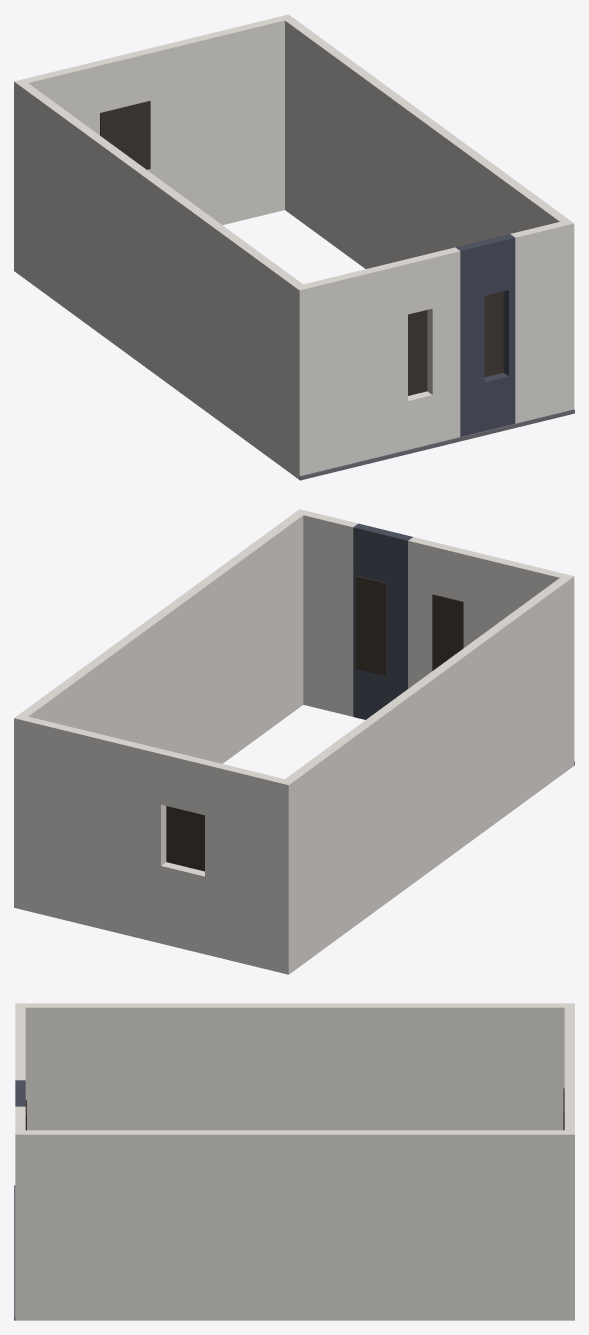
File: SM_Floor_NarrowUpperScatterLow_White_455_Back_01.gltf
3 views of the same model, one above another, from view 1: azimuth 30°, elevation 25°; view 2: azimuth 150°, elevation 25°; view 3: azimuth 270°, elevation 25° (orthographic). The views are drawn at different scales.
Visible parts, largest first — view 1: SM_Floor_NarrowUpperScatterLow_White_455_Back_01; view 2: SM_Floor_NarrowUpperScatterLow_White_455_Back_01; view 3: SM_Floor_NarrowUpperScatterLow_White_455_Back_01.
Boxes of the visible parts, <box> form: SM_Floor_NarrowUpperScatterLow_White_455_Back_01: <box>14,14,574,480</box>; SM_Floor_NarrowUpperScatterLow_White_455_Back_01: <box>14,509,574,974</box>; SM_Floor_NarrowUpperScatterLow_White_455_Back_01: <box>14,1003,574,1320</box>.
Bounding box in the file's own units: 4.55 × 3 × 8.21.
Materials: 1 (1 with a texture image).
